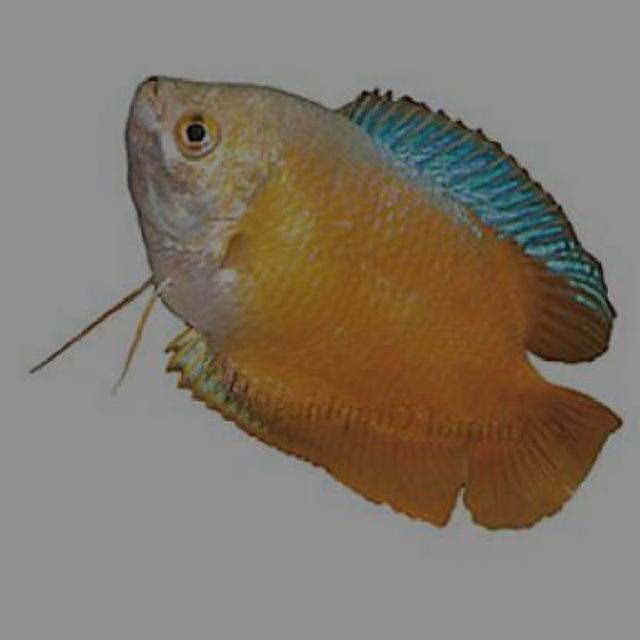Gourami: (118, 66, 620, 537)
